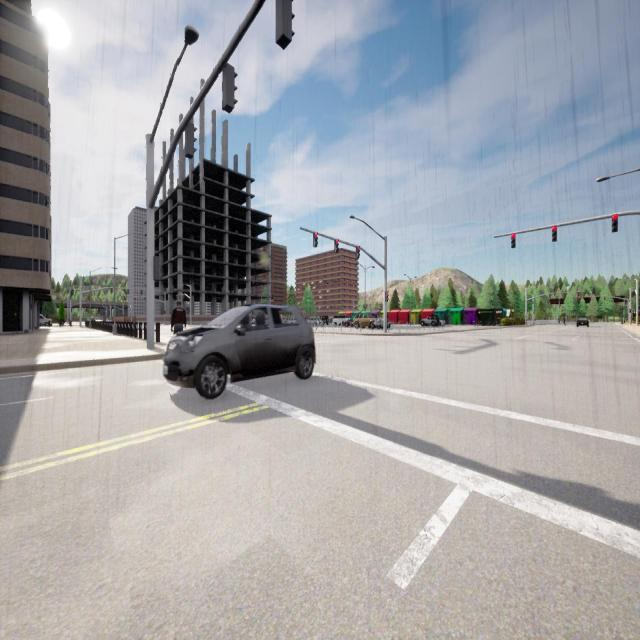Pedestrian: (171, 300, 186, 332)
Vehicle: (163, 305, 315, 397), (354, 314, 374, 329), (421, 316, 438, 326), (374, 318, 390, 328), (39, 315, 52, 326), (333, 315, 347, 325), (576, 317, 589, 327), (319, 316, 329, 325), (309, 317, 318, 327), (345, 319, 353, 326)
traffic_light: (275, 0, 294, 49), (222, 64, 238, 113), (185, 123, 198, 159), (612, 215, 618, 232), (552, 226, 557, 241), (511, 234, 516, 248), (314, 233, 318, 247), (356, 246, 360, 259), (334, 240, 338, 252), (385, 291, 388, 302), (124, 296, 126, 300), (134, 296, 136, 300), (164, 310, 166, 314), (604, 296, 606, 300), (629, 309, 631, 313), (578, 296, 580, 299), (590, 296, 592, 299)
